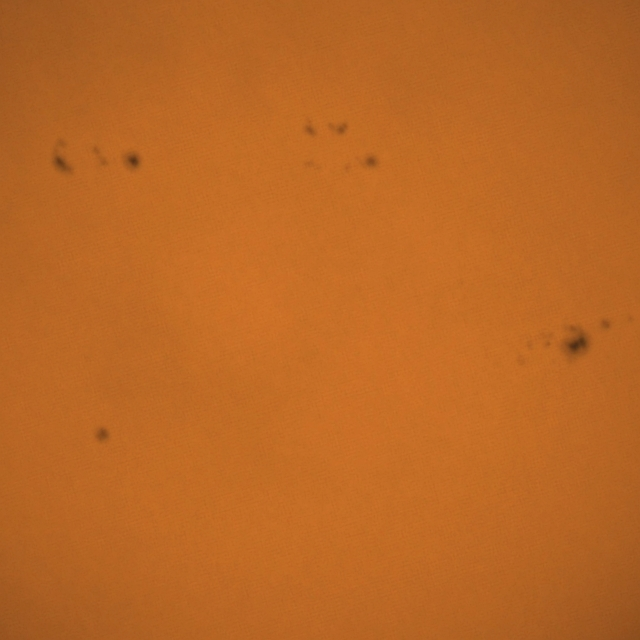sunspot: (50, 136, 76, 177), (564, 324, 590, 356), (123, 149, 142, 172), (91, 145, 109, 169), (94, 426, 111, 446), (362, 154, 379, 173), (335, 121, 350, 137), (600, 318, 612, 332)
